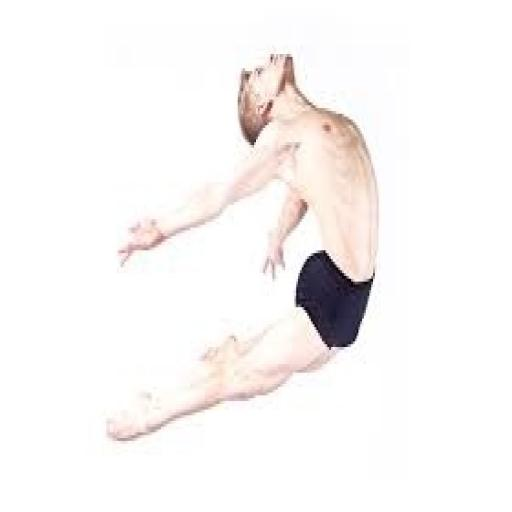dancing: (102, 46, 382, 446)
